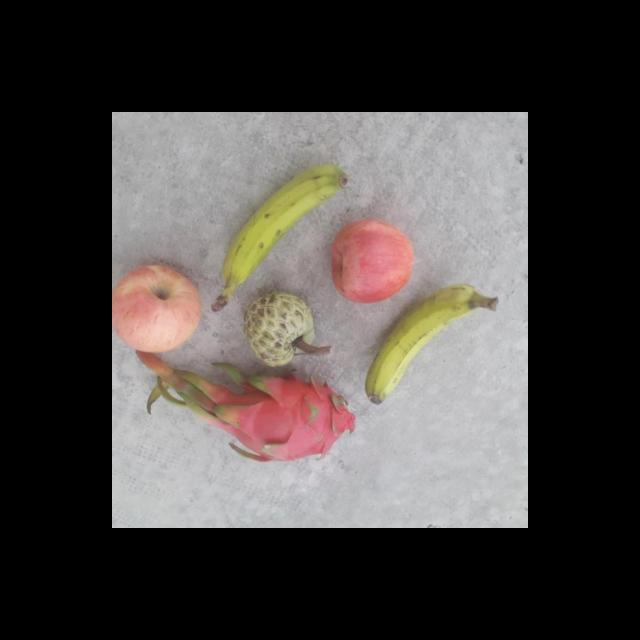Sakya fruit: (240, 286, 318, 368)
apple: (112, 263, 206, 353), (332, 218, 418, 306)
banana: (210, 162, 351, 314), (364, 276, 503, 405)
pitaya: (222, 364, 360, 468)
